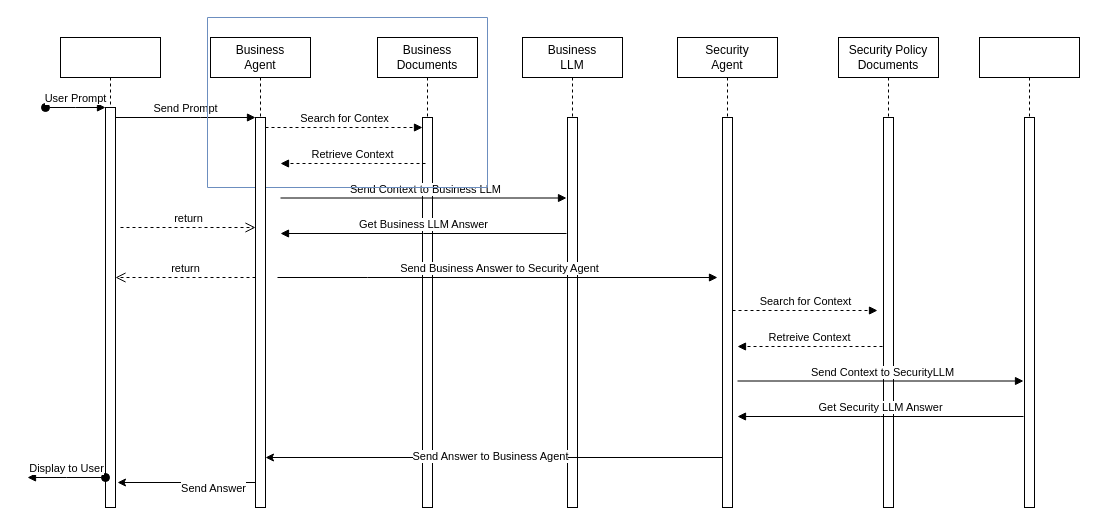
This 1097x525 diagram has some shape labels left out. The shapes that lost their labels are listed below. From the top down, each one's box as (x1, y1, x2, y2) in pixels, then its label:
(60, 36, 160, 508): Front End Application
(978, 36, 1080, 508): Security LLM
